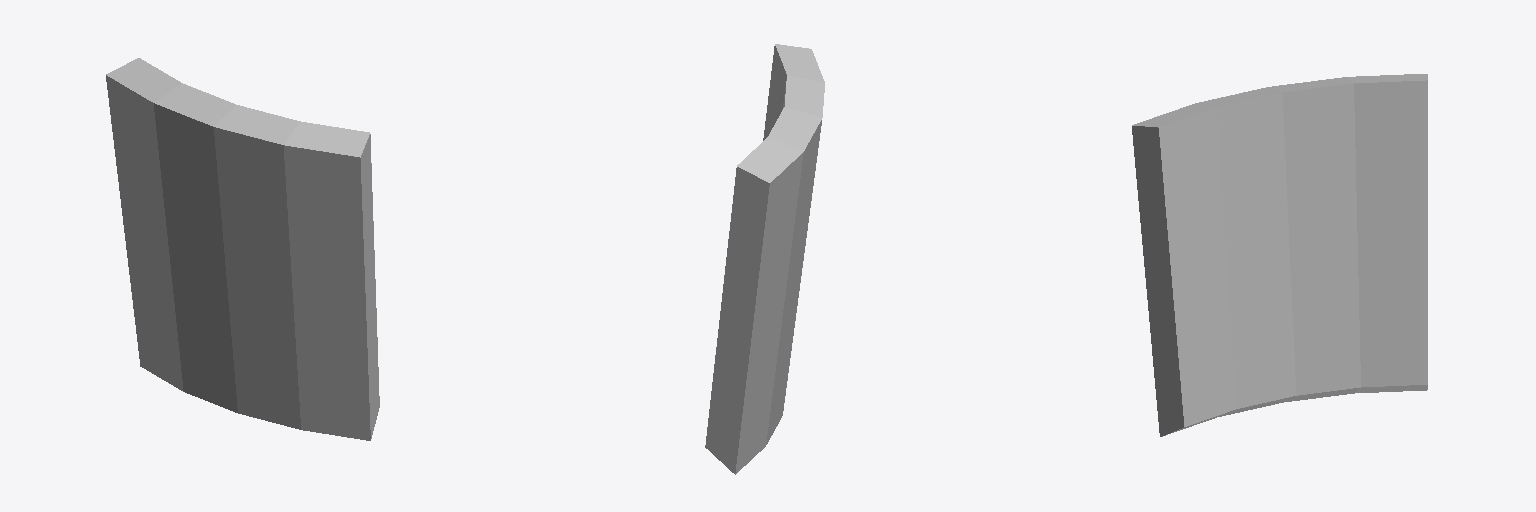
The model's file is Level_2_2.obj.
3 renders of one model, left to right at view 1: azimuth 30°, elevation 25°; view 2: azimuth 150°, elevation 25°; view 3: azimuth 270°, elevation 25°, orthographic.
Parts seen in each view (by area): view 1: Level_2_2_Cylinder.029; view 2: Level_2_2_Cylinder.029; view 3: Level_2_2_Cylinder.029.
Part boxes in pixels (x1,y1,x2,y2): Level_2_2_Cylinder.029: (106, 58, 379, 440); Level_2_2_Cylinder.029: (705, 44, 824, 474); Level_2_2_Cylinder.029: (1132, 74, 1427, 436).
Bounding box in the file's own units: 0.9886 × 1.92 × 1.67.